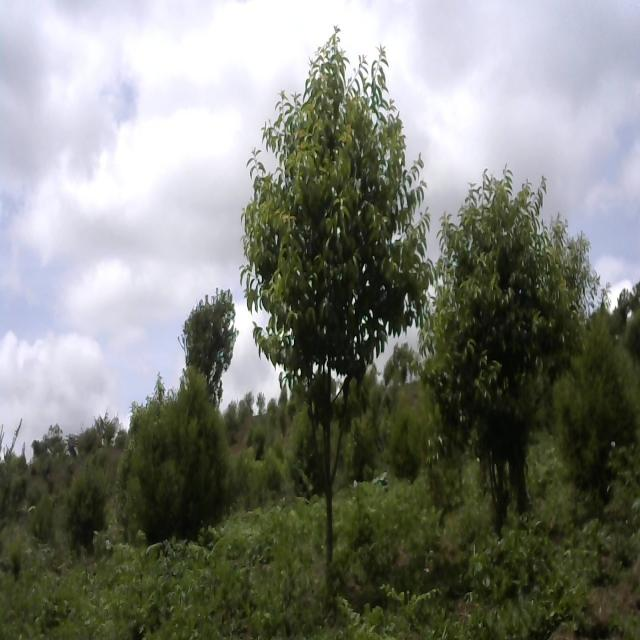Juniperus procesera: (132, 367, 230, 535)
Prunus Africana: (242, 30, 431, 606), (431, 141, 593, 558)
